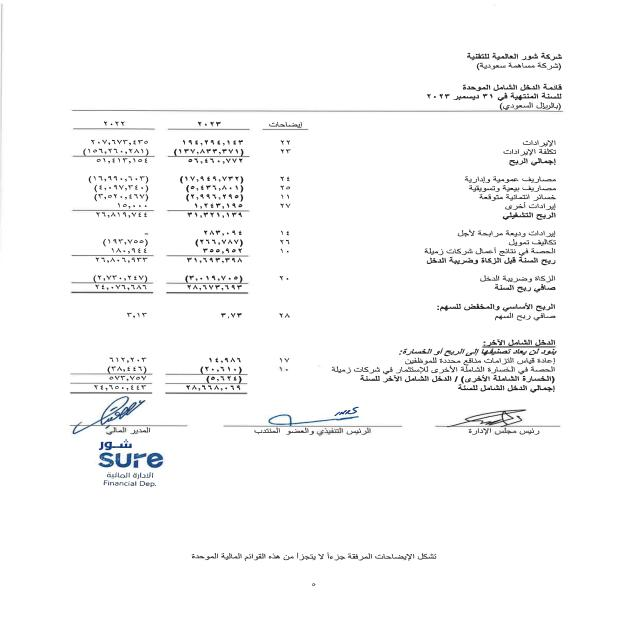financial_sheets: (453, 81, 569, 92)
table: (48, 116, 320, 402)
